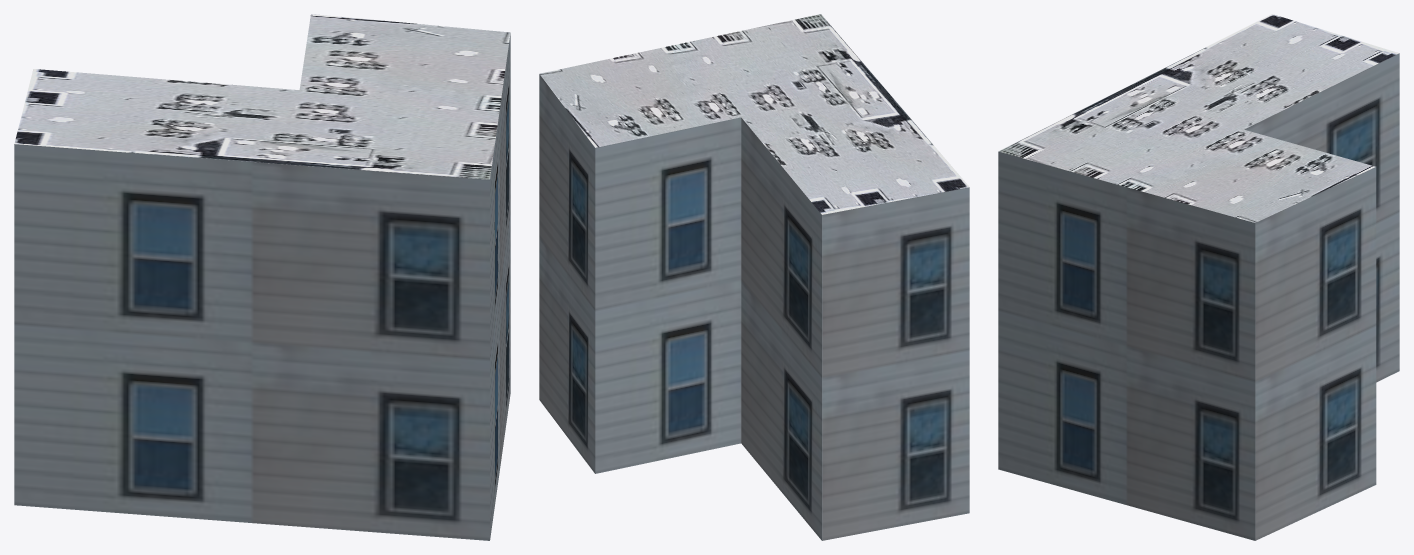
The model's file is ResTex__3707.fbx.
The picture shows the model from 3 angles, left to right: view 1: azimuth 30°, elevation 25°; view 2: azimuth 150°, elevation 25°; view 3: azimuth 270°, elevation 25°; orthographic projection. The views are drawn at different scales.
Parts seen in each view (by area): view 1: CityEngineMaterial_18_m, CityEngineMaterial_8_m; view 2: CityEngineMaterial_18_m, CityEngineMaterial_8_m; view 3: CityEngineMaterial_18_m, CityEngineMaterial_8_m.
Boxes of the visible parts, x1,y1,x2,y2 form: CityEngineMaterial_18_m: [14, 33, 510, 540]; CityEngineMaterial_8_m: [14, 14, 510, 179]; CityEngineMaterial_18_m: [539, 74, 969, 540]; CityEngineMaterial_8_m: [539, 14, 969, 214]; CityEngineMaterial_18_m: [998, 53, 1399, 540]; CityEngineMaterial_8_m: [998, 14, 1398, 222].
Bounding box in the file's own units: 8.46 × 6 × 6.86.
2 materials, 2 textured.
